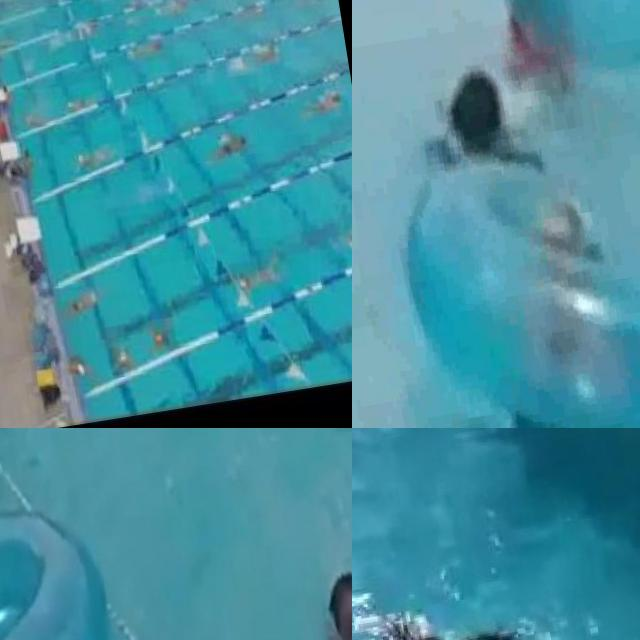drowning: (372, 17, 564, 215)
swimming: (234, 255, 284, 300), (202, 124, 252, 164), (228, 42, 278, 76), (61, 286, 102, 325), (62, 88, 102, 124), (67, 148, 108, 180), (134, 32, 166, 67), (310, 88, 342, 118), (72, 351, 96, 388), (146, 320, 175, 350), (163, 0, 203, 20), (80, 16, 108, 42), (111, 349, 136, 375), (117, 0, 142, 18), (27, 110, 43, 136)
